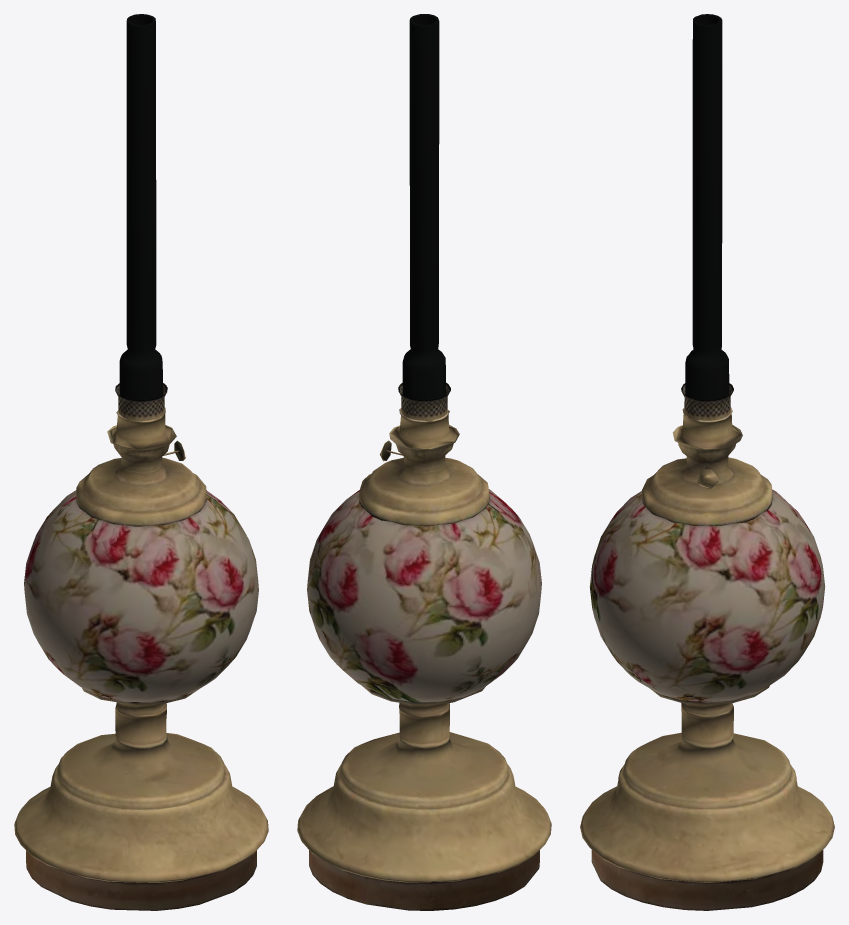
The model's file is vintage_oil_lamp.glb.
The picture shows the model from 3 angles, left to right: view 1: azimuth 30°, elevation 25°; view 2: azimuth 150°, elevation 25°; view 3: azimuth 270°, elevation 25°; orthographic projection.
Parts seen in each view (by area): view 1: vintage_oil_lamp, vintage_oil_lamp_glass; view 2: vintage_oil_lamp, vintage_oil_lamp_glass; view 3: vintage_oil_lamp, vintage_oil_lamp_glass.
Part boxes in pixels (x1,y1,x2,y2): vintage_oil_lamp: (14, 407, 268, 910); vintage_oil_lamp_glass: (115, 14, 167, 421); vintage_oil_lamp: (297, 408, 551, 910); vintage_oil_lamp_glass: (398, 14, 450, 421); vintage_oil_lamp: (580, 407, 834, 910); vintage_oil_lamp_glass: (681, 14, 733, 420).
Size of the model in its own units: 0.22 by 0.8016 by 0.22.
3 materials, 3 textured.
